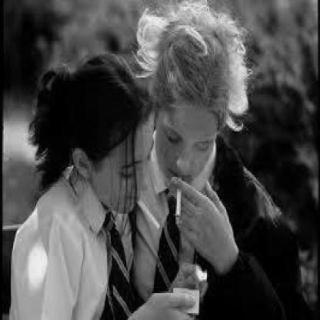Fire: (192, 263, 215, 283)
